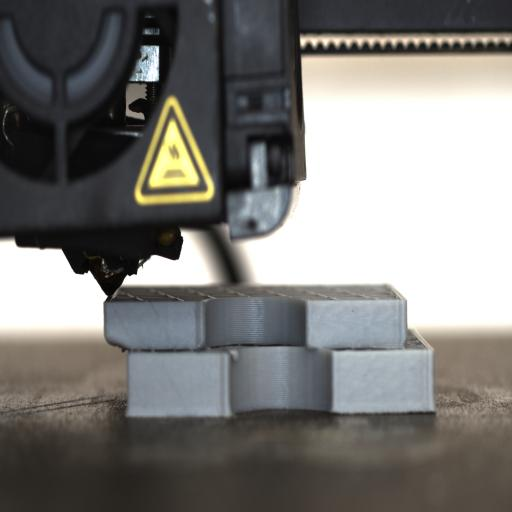layer_shift: (104, 332, 434, 360)
